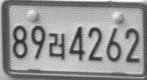2: (124, 27, 141, 64), (87, 25, 103, 62)
4: (68, 26, 86, 62)
6: (105, 27, 122, 62)
8: (12, 25, 28, 59)
9: (30, 24, 46, 59)
러: (48, 32, 66, 61)
